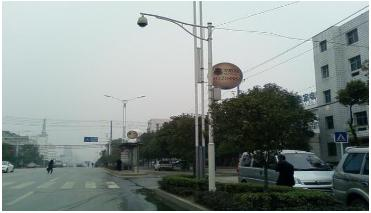camera: (136, 13, 149, 28)
car: (273, 149, 332, 189), (331, 143, 368, 206)
person: (276, 156, 295, 186), (45, 159, 55, 175), (4, 160, 14, 173), (116, 157, 122, 170)
